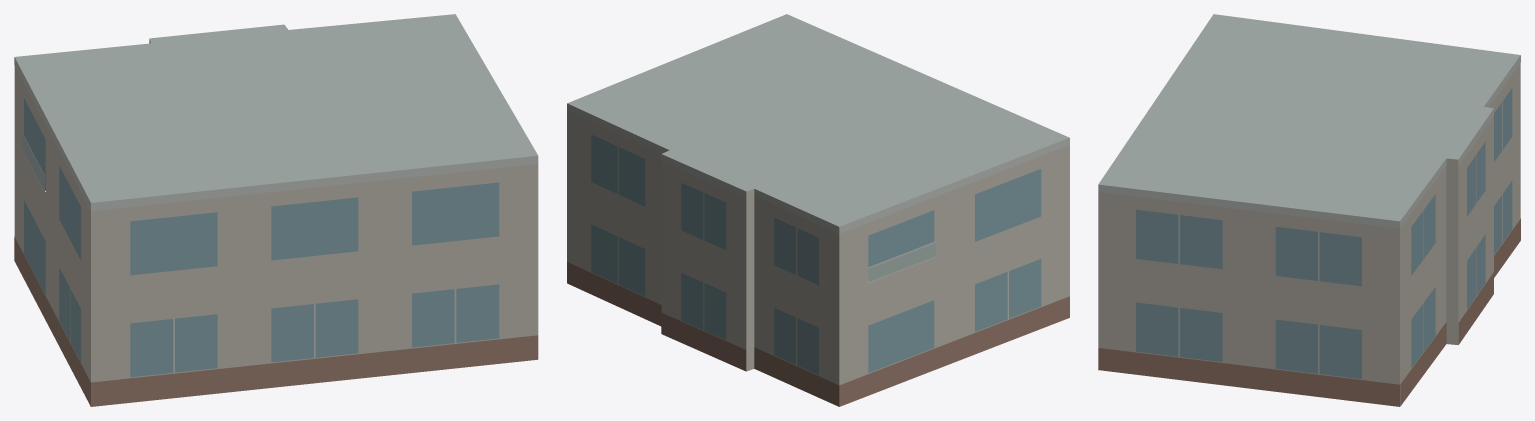
File: survey-upis-32873548.glb
The picture shows the model from 3 angles, left to right: view 1: azimuth 30°, elevation 25°; view 2: azimuth 150°, elevation 25°; view 3: azimuth 270°, elevation 25°; orthographic projection. The views are drawn at different scales.
Visible parts, largest first — view 1: survey-upis-32873548.tmp; view 2: survey-upis-32873548.tmp; view 3: survey-upis-32873548.tmp.
Boxes of the visible parts, x1,y1,x2,y2 form: survey-upis-32873548.tmp: [14, 14, 538, 406]; survey-upis-32873548.tmp: [567, 14, 1069, 406]; survey-upis-32873548.tmp: [1098, 14, 1520, 406].
Size of the model in its own units: 14.63 by 6.1 by 12.6.
